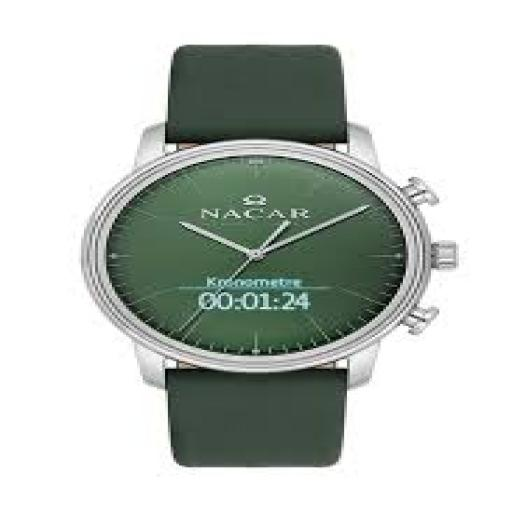KolSaati: (5, 23, 508, 490)
